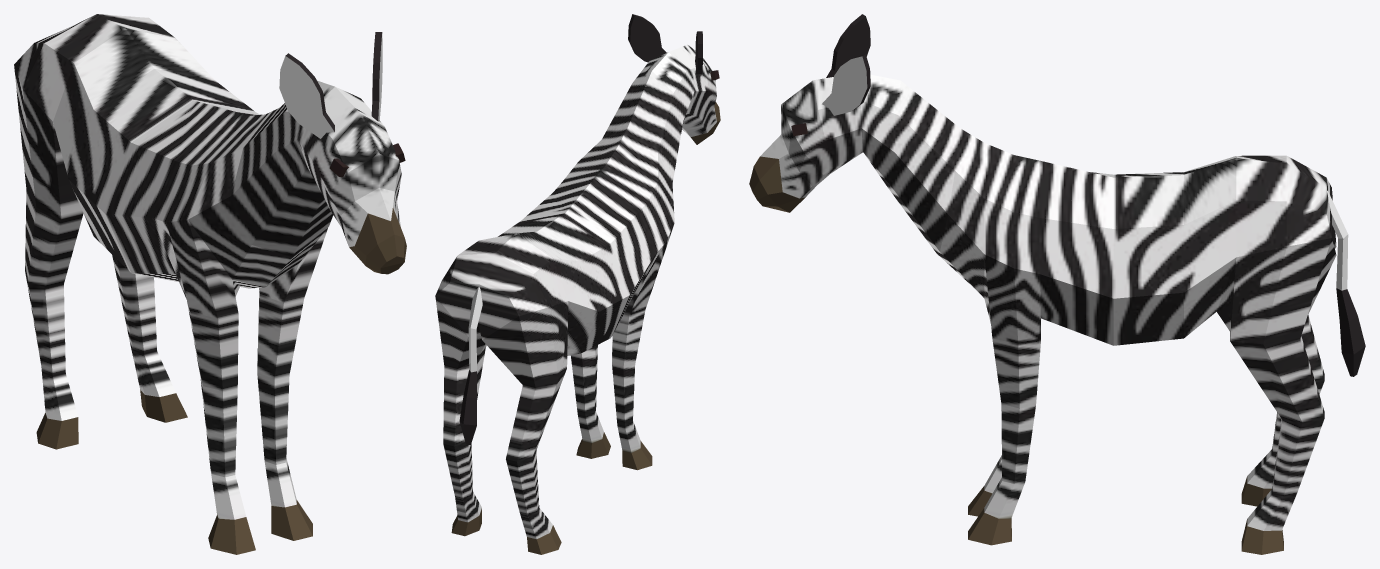
The model's file is animals-zebra-219.glb.
3 views of the same model, side by side, from view 1: azimuth 30°, elevation 25°; view 2: azimuth 150°, elevation 25°; view 3: azimuth 270°, elevation 25° (orthographic). The views are drawn at different scales.
Visible parts, largest first — view 1: Geo_Zebra; view 2: Geo_Zebra; view 3: Geo_Zebra.
Part boxes in pixels (left/top/right/bottom): Geo_Zebra: left=14, top=14, right=406, bottom=554; Geo_Zebra: left=435, top=14, right=720, bottom=554; Geo_Zebra: left=749, top=14, right=1365, bottom=554.
Size of the model in its own units: 40.07 by 119 by 136.
1 material, 1 textured.
